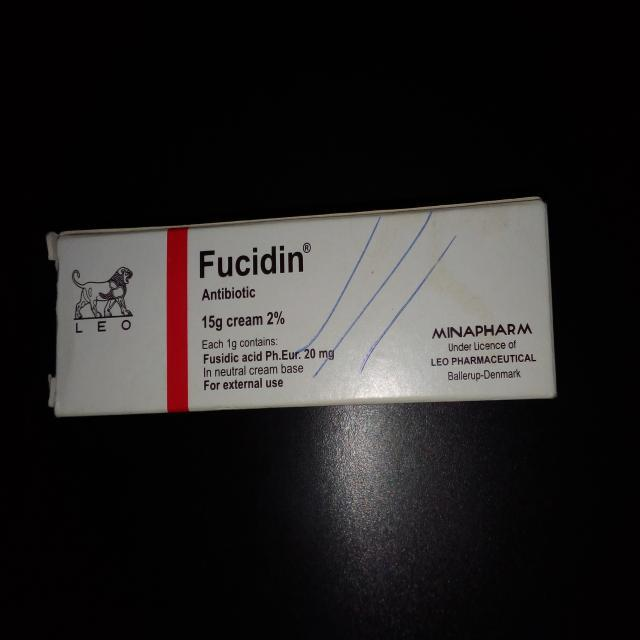Medicine Name: (192, 236, 306, 287)
